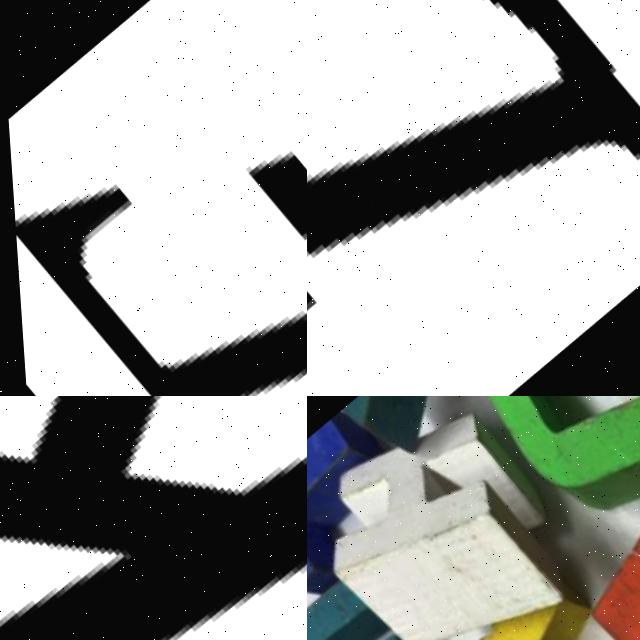C: (425, 396, 640, 555)
D: (307, 0, 640, 396)
F: (0, 0, 307, 396)
H: (307, 396, 591, 640)
K: (0, 396, 307, 640)
M: (307, 557, 495, 640)
R: (400, 541, 640, 640)
